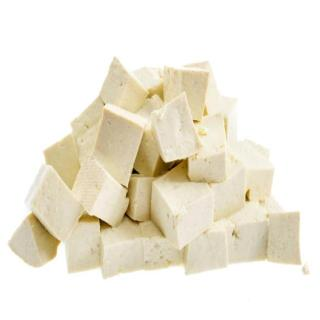Tahu: (10, 28, 312, 304)
